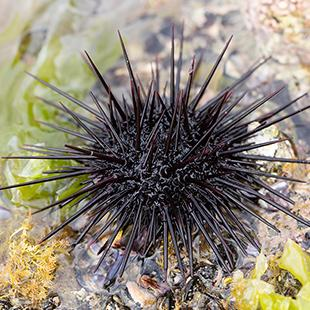urchin: (29, 40, 286, 276)
